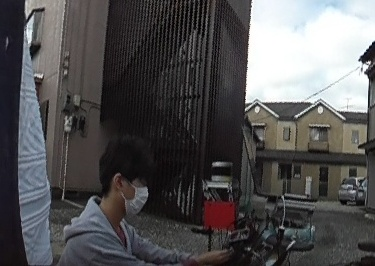person: (65, 148, 193, 266)
